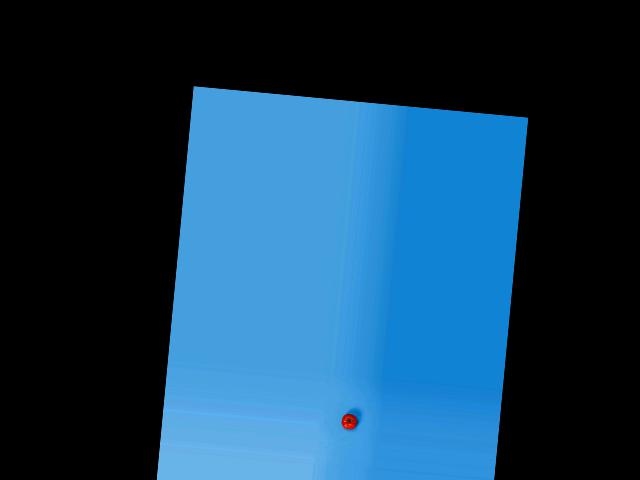tomato: (340, 412, 357, 429)
